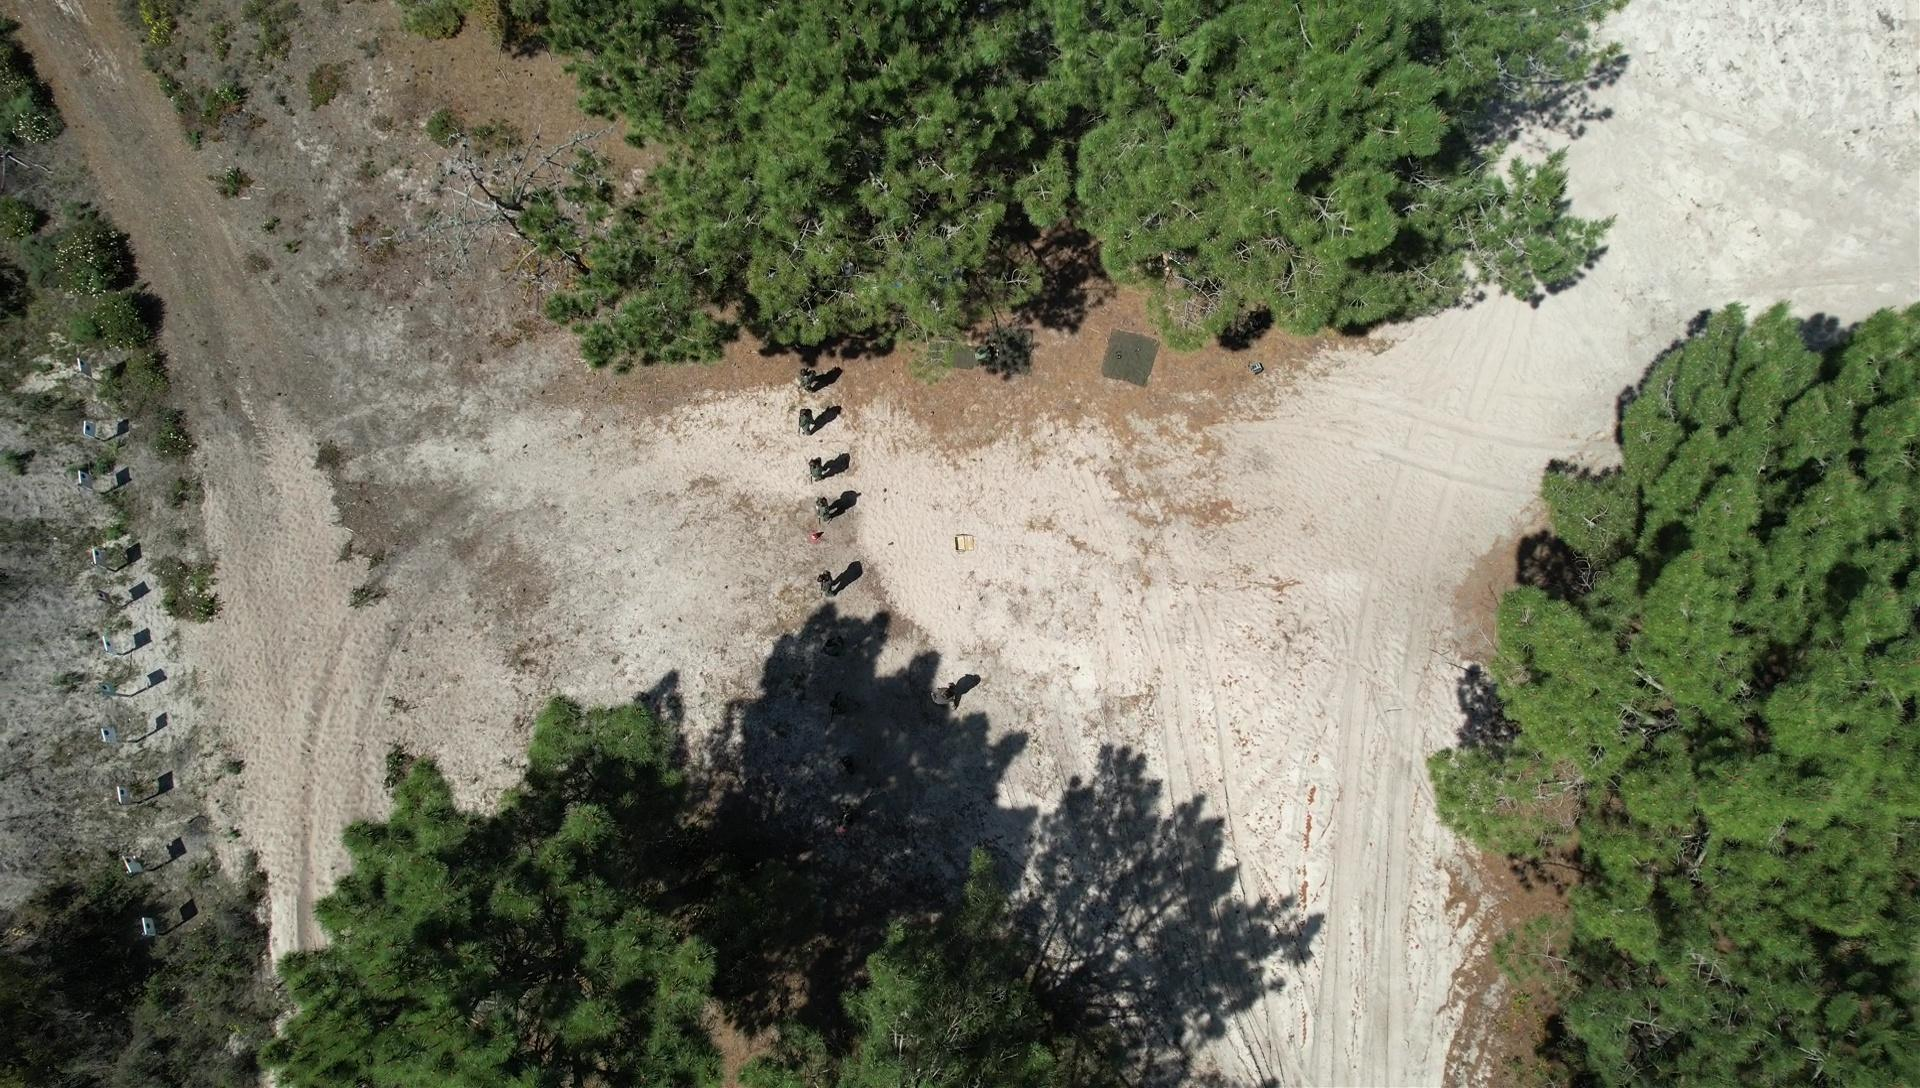Soldier: (930, 677, 961, 716), (814, 564, 837, 605), (811, 492, 836, 529), (818, 633, 848, 663), (791, 363, 820, 394), (793, 402, 819, 437), (825, 688, 852, 723), (804, 454, 827, 487), (837, 748, 858, 781)
